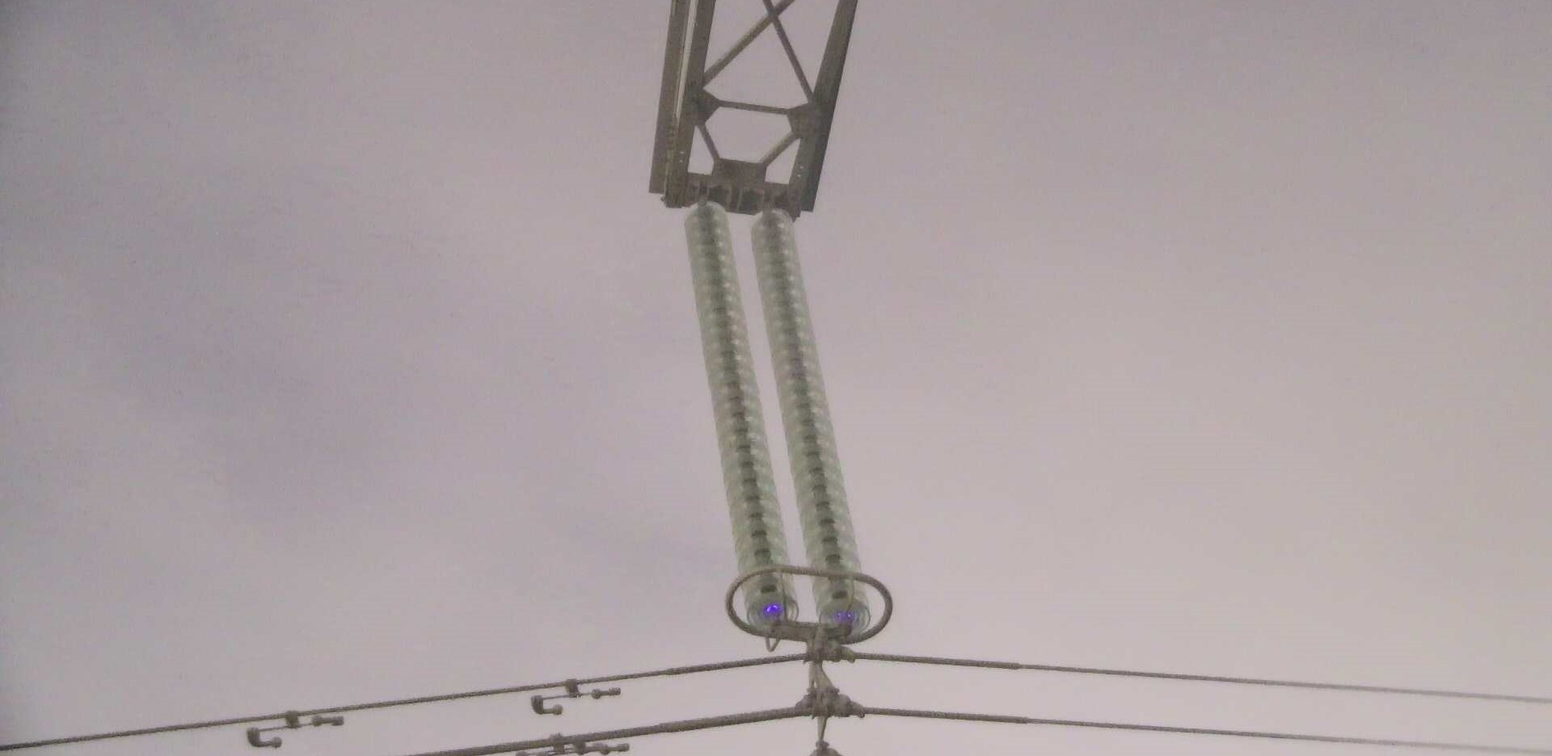绝缘子污闪: (763, 603, 782, 615), (835, 610, 854, 621)
